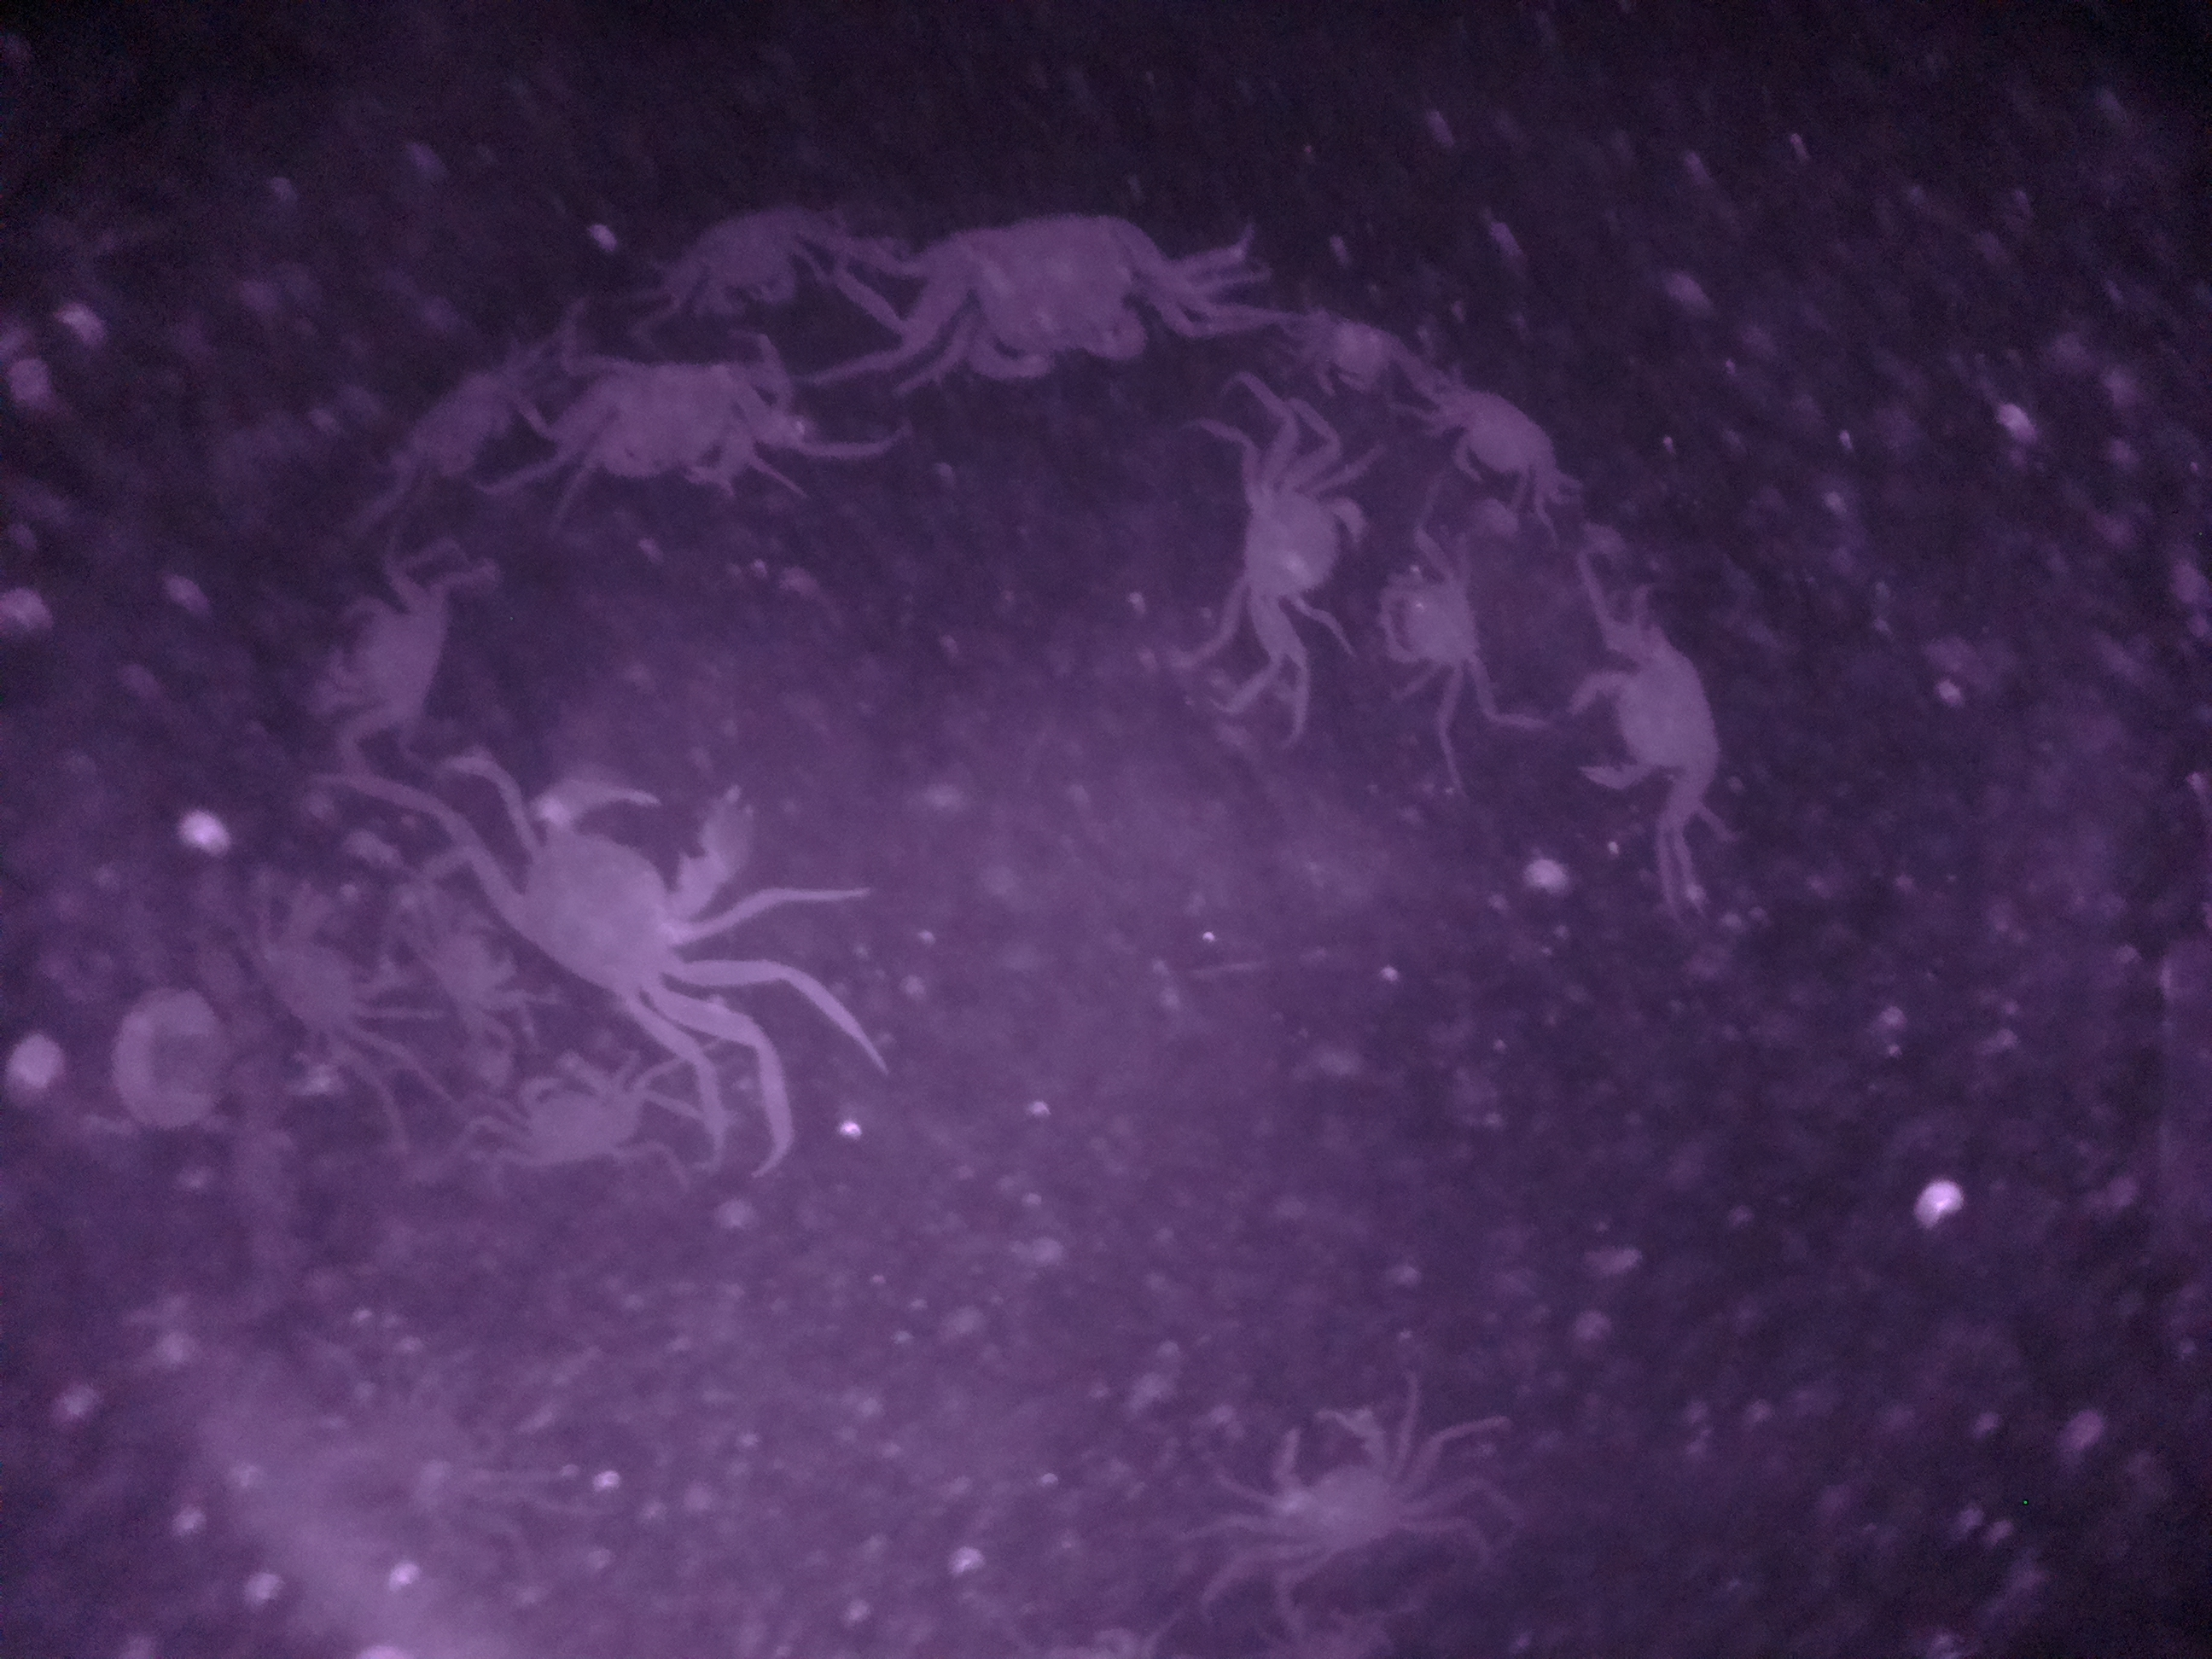Crab: (930, 193, 1186, 394), (557, 340, 796, 502), (1252, 1399, 1439, 1600), (1564, 619, 1737, 814), (1221, 451, 1369, 648), (493, 1047, 676, 1194), (327, 565, 458, 744), (1374, 538, 1508, 706), (1416, 383, 1585, 505)
